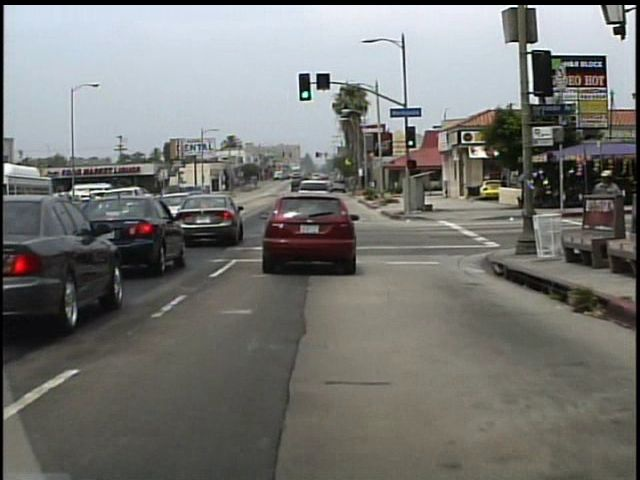person: (586, 165, 621, 256), (496, 173, 508, 207)
